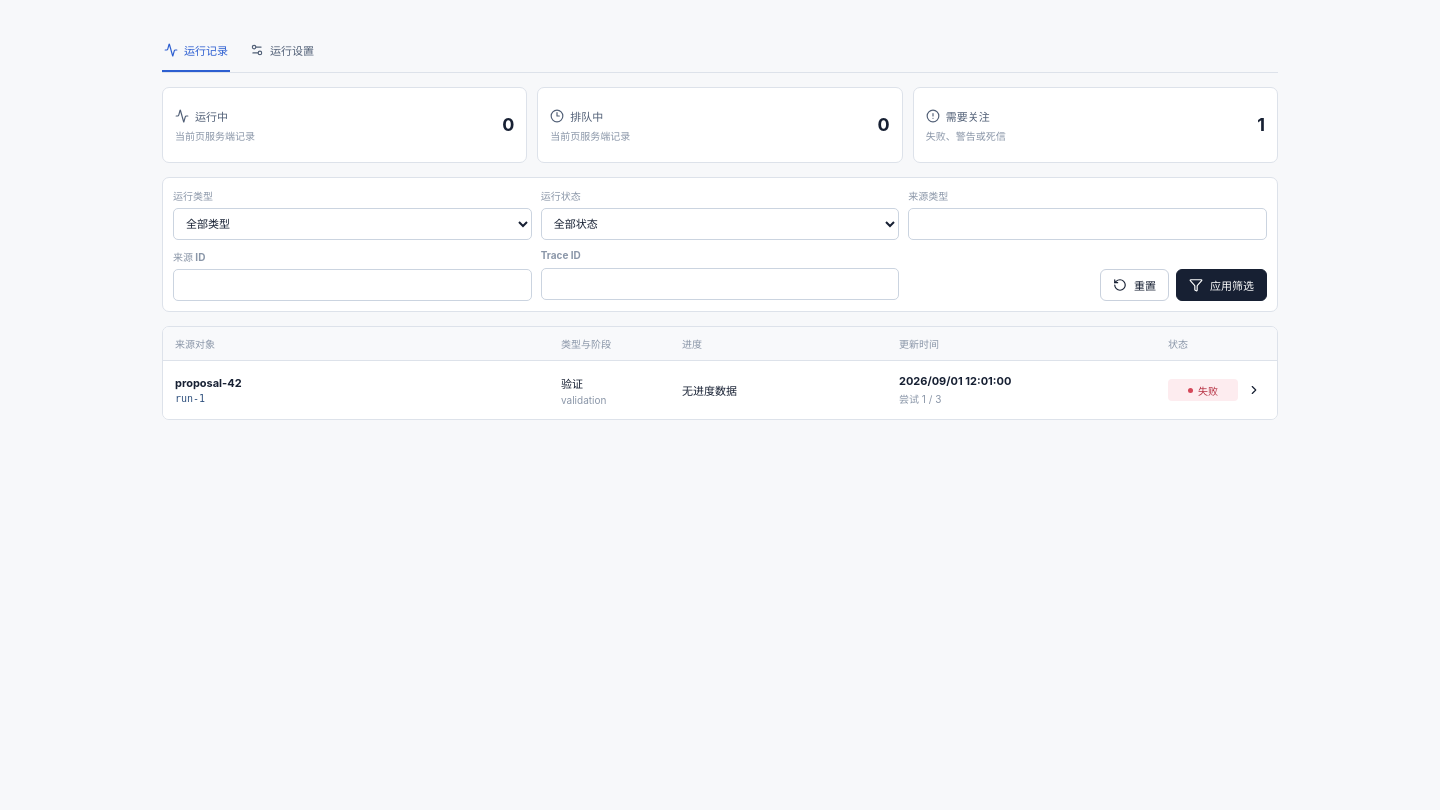
Test: Audit and Runtime view › renders only persisted run facts and server events
Click the button with aria-label "查看运行 proposal-42": (720, 390) [163,361,1277,419]
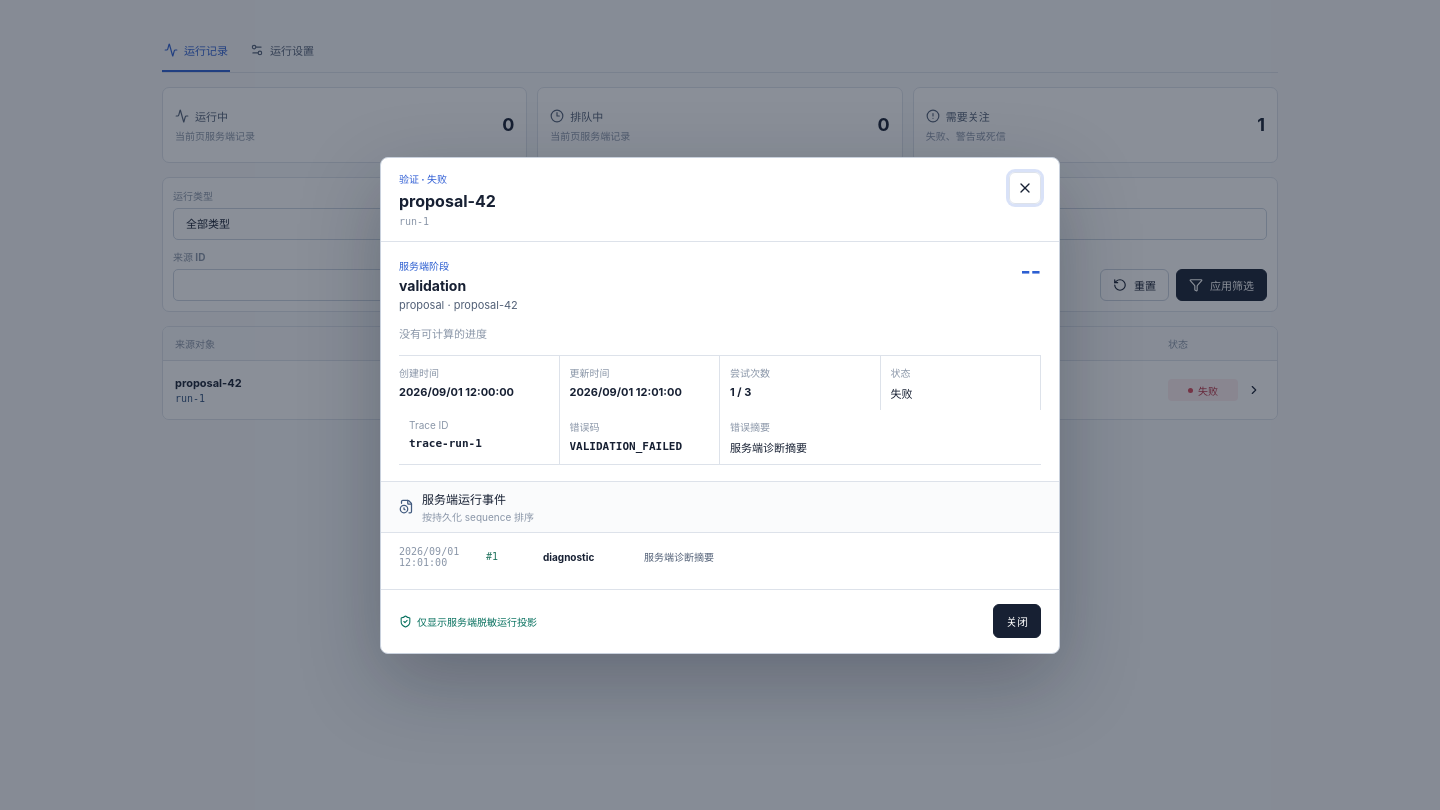
Expected: the text "服务端诊断摘要" is shown 2 times, [730,440,807,454]; [644,551,714,563]
Expected: the text "没有可计算的进度" is shown, [399,326,487,340]
